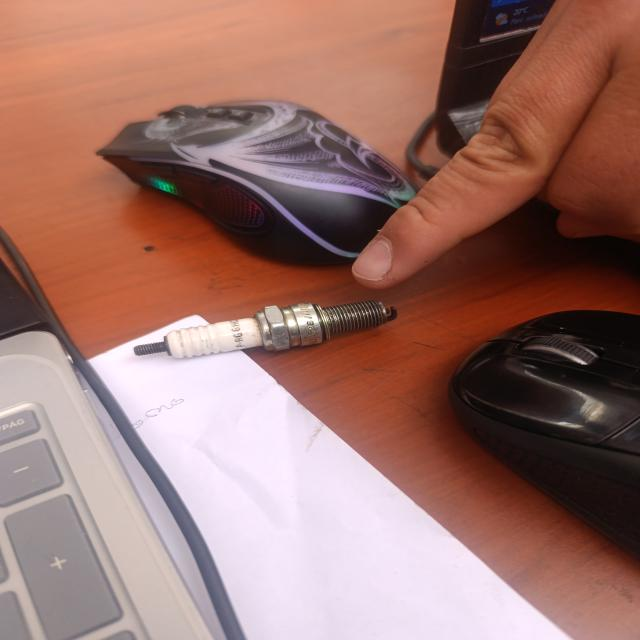bujia: (134, 301, 396, 358)
